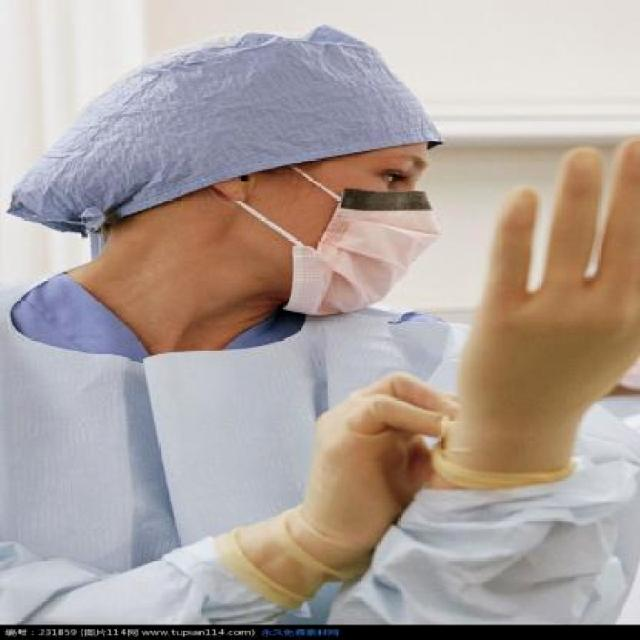face_mask: (266, 122, 429, 326)
hand_glove: (449, 140, 640, 455), (287, 373, 458, 544)
head_nohelmet: (77, 39, 455, 172)
person: (23, 31, 640, 640)
